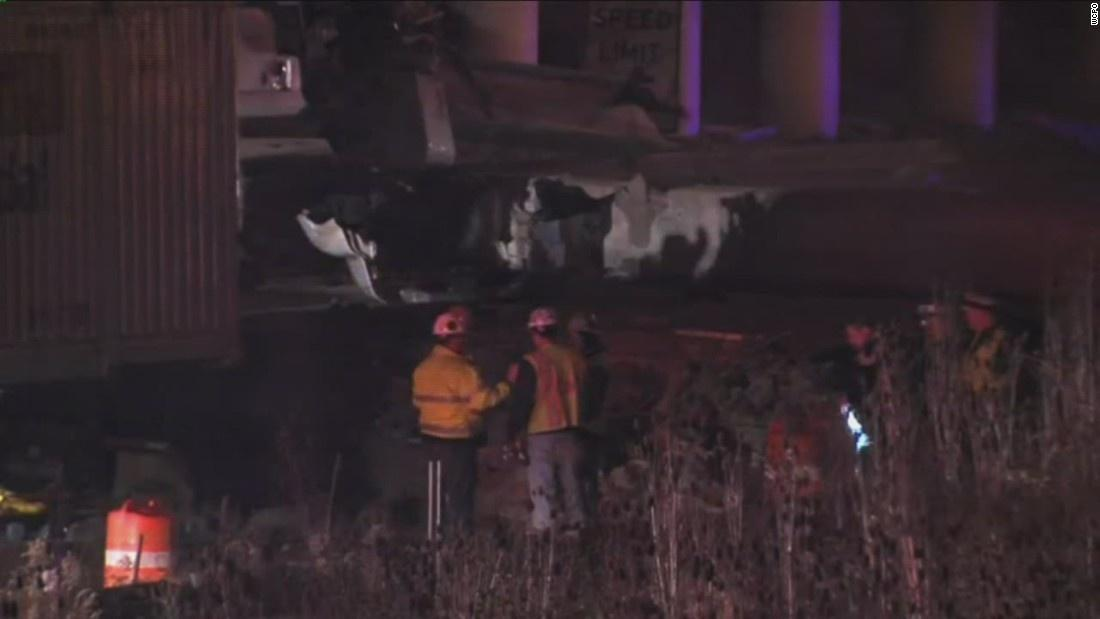Vest: (413, 351, 489, 441)
